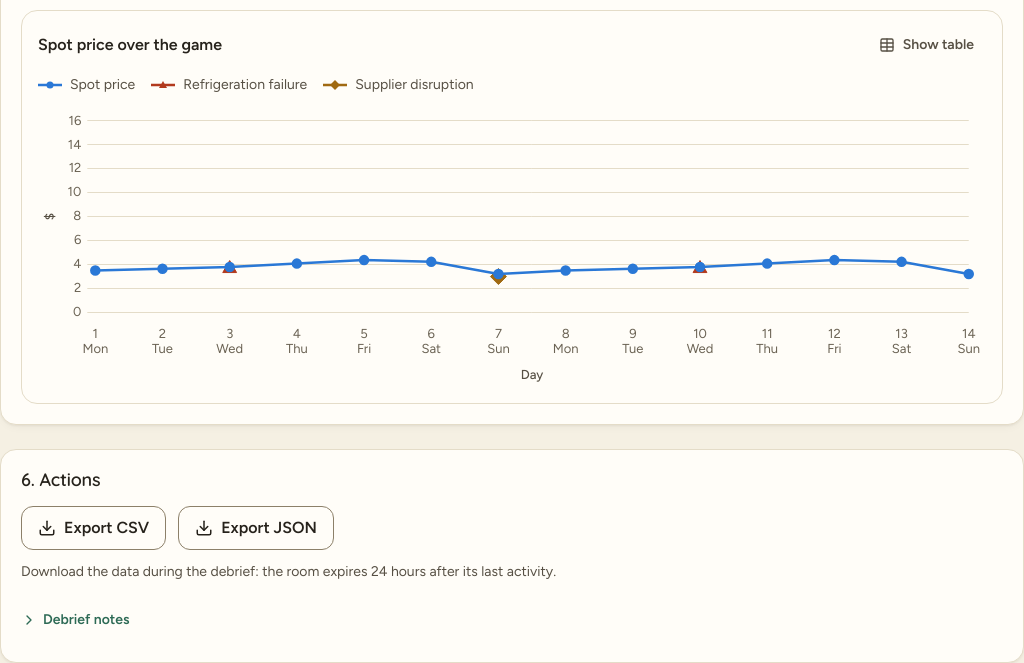
Test: Debrief notes › opens on click and holds the nine talking points, verbatim, as a numbered list
The image size is (1024, 663).
(page scrolled)
Click the heading "Debrief notes" at {"x": 75, "y": 620}, box x1=21 y1=611 x2=130 y2=628
(page scrolled)
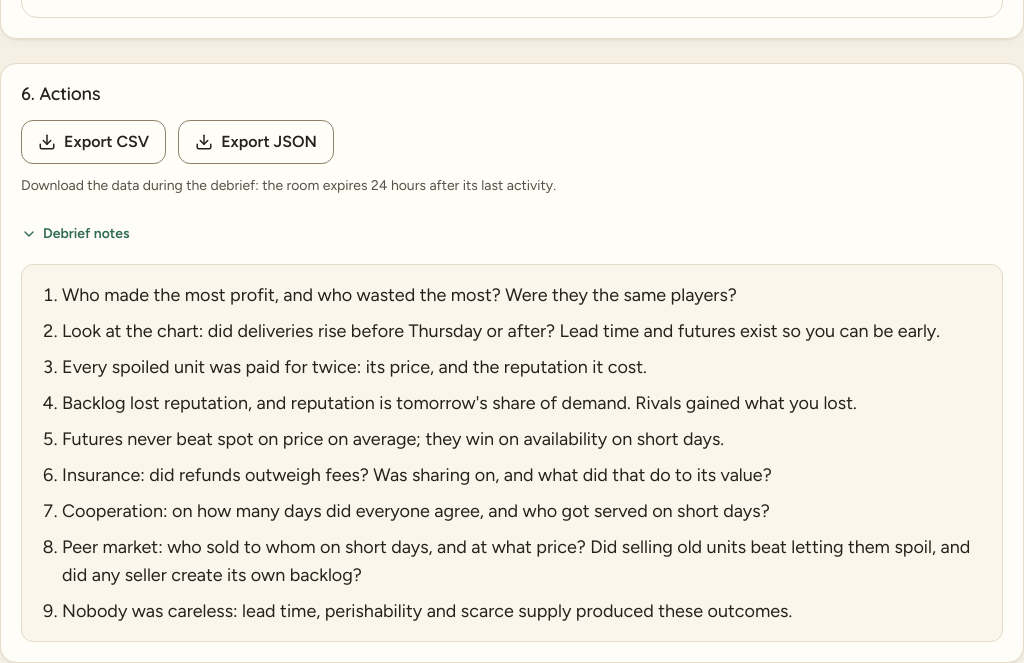
Now the list is shown, box x1=38 y1=281 x2=986 y2=625
